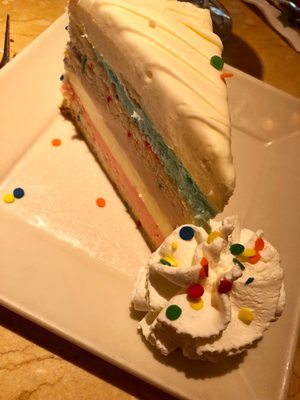salad: (129, 215, 286, 366)
sushi: (58, 0, 237, 252), (129, 215, 286, 366)
